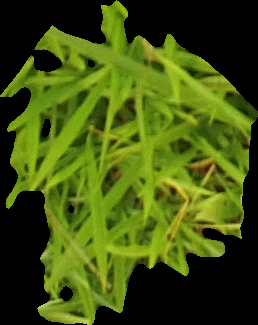grass: (1, 1, 255, 324)
